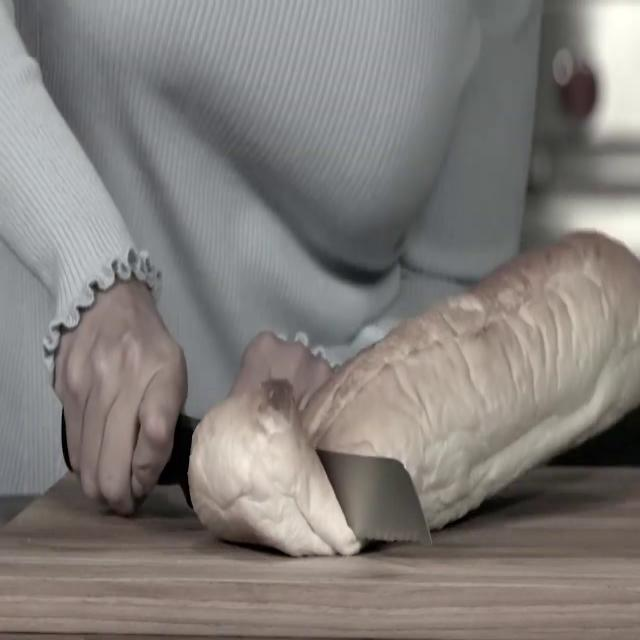Knife_Handle: (50, 275, 433, 547)
